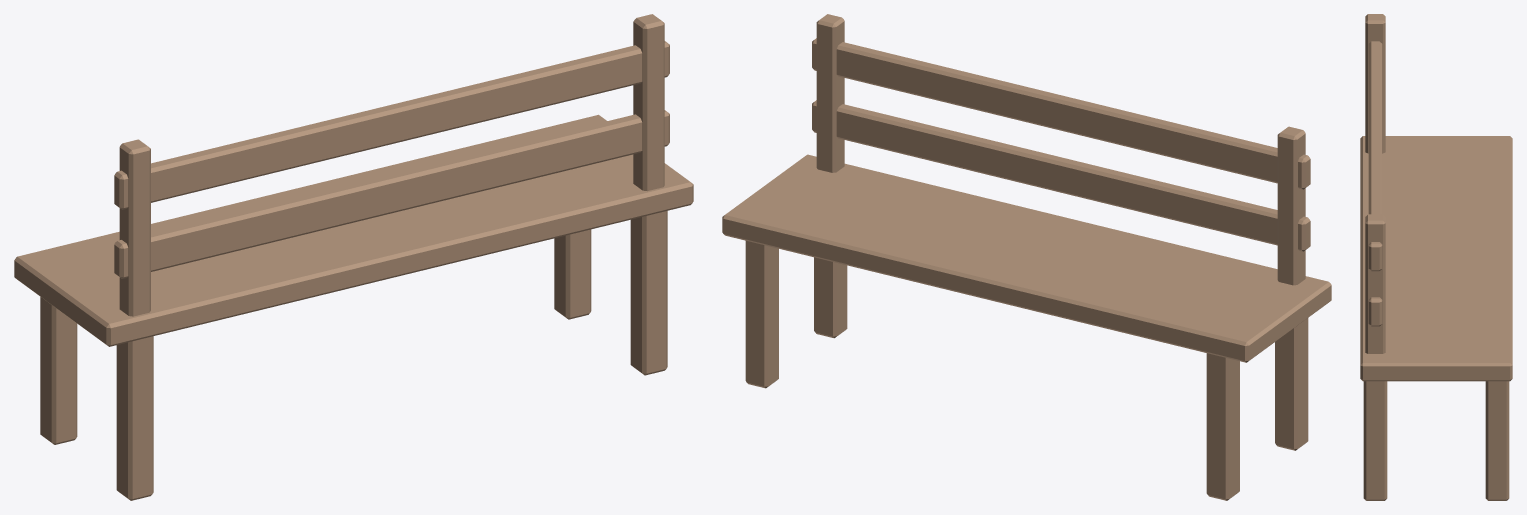
Rendered from SM_Garden_Bench.fbx.
3 views of the same model, side by side, from view 1: azimuth 30°, elevation 25°; view 2: azimuth 150°, elevation 25°; view 3: azimuth 270°, elevation 25° (orthographic). The views are drawn at different scales.
Parts seen in each view (by area): view 1: Garden_Bench; view 2: Garden_Bench; view 3: Garden_Bench.
Boxes of the visible parts, bbox=[...] form: Garden_Bench: bbox=[14, 14, 693, 500]; Garden_Bench: bbox=[722, 14, 1331, 500]; Garden_Bench: bbox=[1360, 14, 1512, 500].
Bounding box in the file's own units: 160 × 91 × 45.
